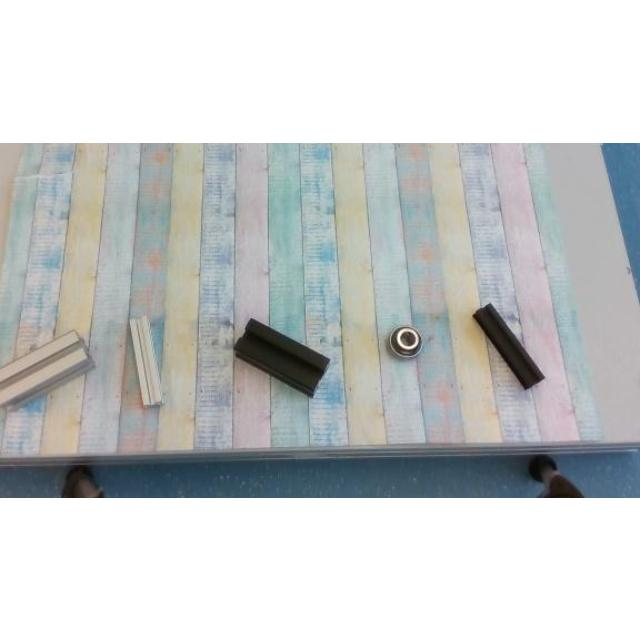Bearing2: (389, 324, 421, 356)
F20_20_B: (473, 303, 543, 387)
F20_20_G: (130, 314, 162, 406)
S40_40_B: (233, 317, 329, 395)
S40_40_G: (0, 330, 94, 406)
